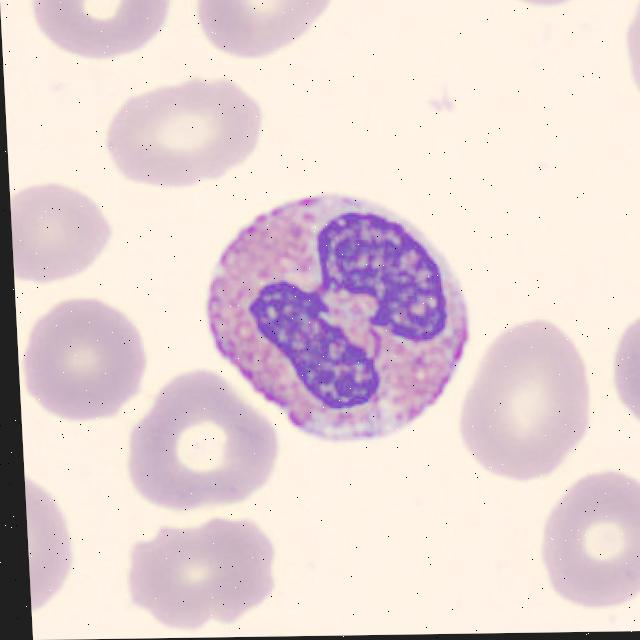eosinophil: (197, 186, 483, 483)
rbc: (15, 280, 165, 444), (130, 363, 288, 514), (458, 320, 603, 483), (122, 512, 304, 639), (90, 69, 271, 193), (533, 461, 640, 618), (9, 165, 121, 288), (14, 0, 173, 64), (24, 460, 82, 622), (194, 0, 348, 61), (605, 309, 640, 450), (458, 0, 596, 32), (616, 0, 640, 114)
